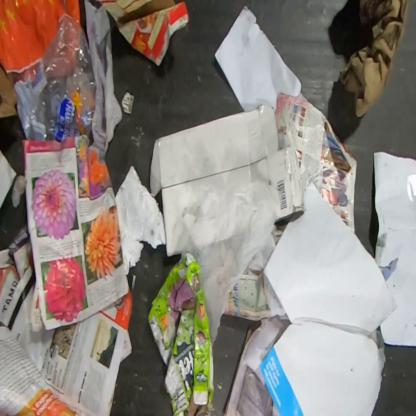cardboard: (150, 104, 305, 258), (148, 252, 215, 416), (95, 0, 190, 66)
soft_plastic: (180, 180, 285, 348), (12, 12, 97, 147), (84, 0, 123, 159), (0, 0, 80, 74)
